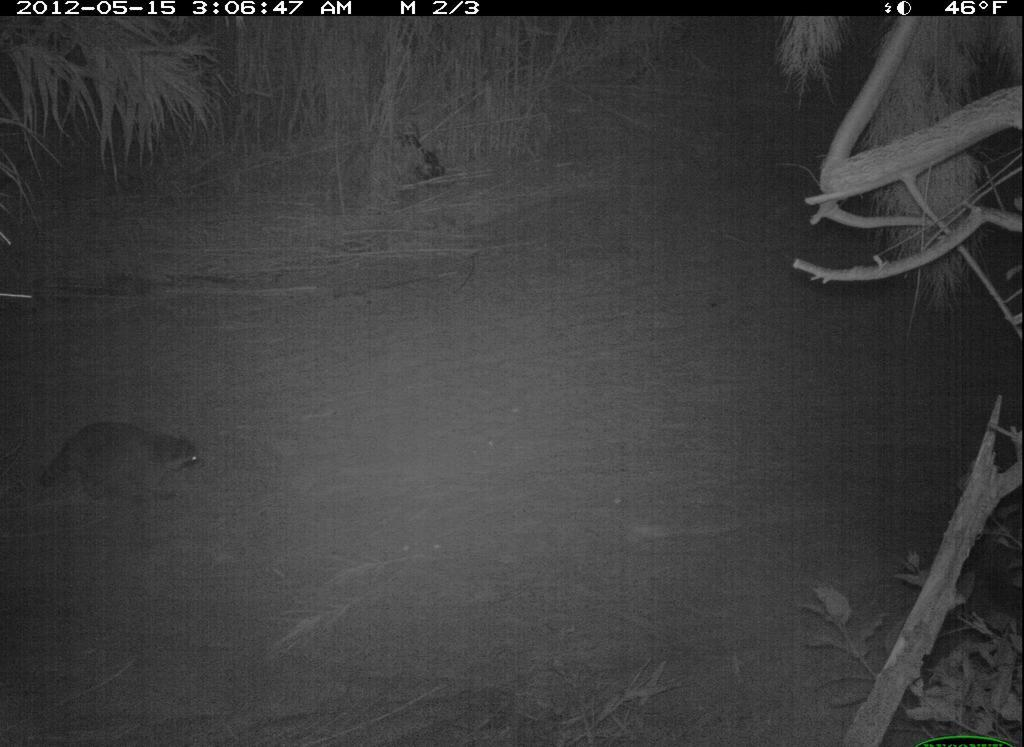raccoon: (33, 423, 209, 509)
